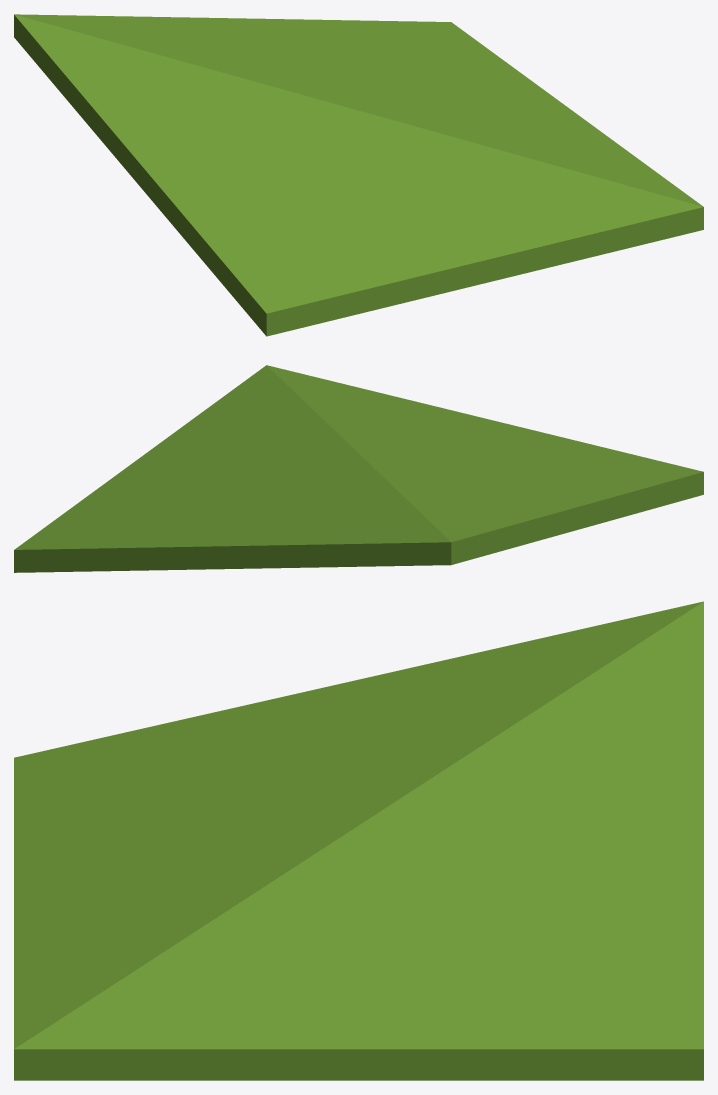
Rendered from WorldBlocksAngle_1.fbx.
3 views of the same model, one above another, from view 1: azimuth 30°, elevation 25°; view 2: azimuth 150°, elevation 25°; view 3: azimuth 270°, elevation 25° (orthographic). The views are drawn at different scales.
Visible parts, largest first — view 1: WorldBlocksAngle_1; view 2: WorldBlocksAngle_1; view 3: WorldBlocksAngle_1.
Part boxes in pixels (x1,y1,x2,y2): WorldBlocksAngle_1: (14,14,703,336); WorldBlocksAngle_1: (14,365,703,572); WorldBlocksAngle_1: (14,601,703,1080).
Size of the model in its own units: 2000 by 600 by 2000.
1 material, 1 textured.
